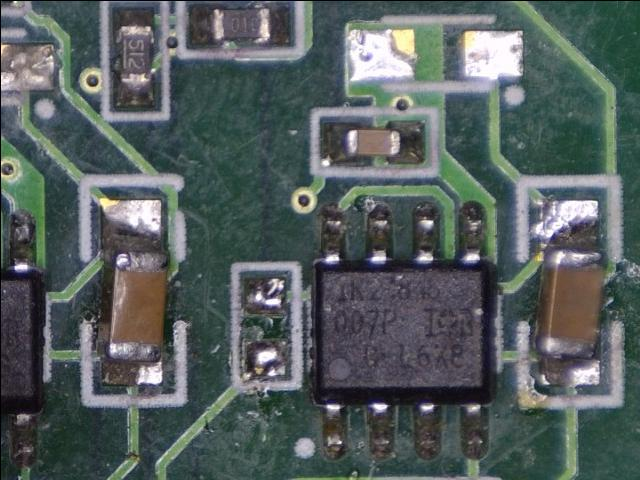Incorrect_installation: (99, 198, 171, 388), (533, 198, 605, 386)
